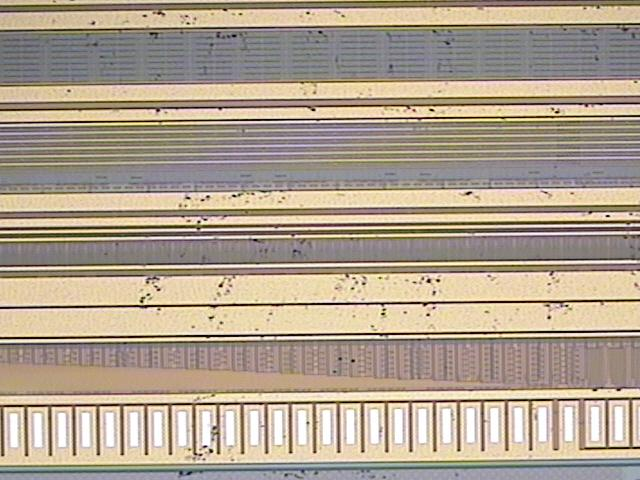PO CONTAMINATION: (68, 1, 640, 480)
